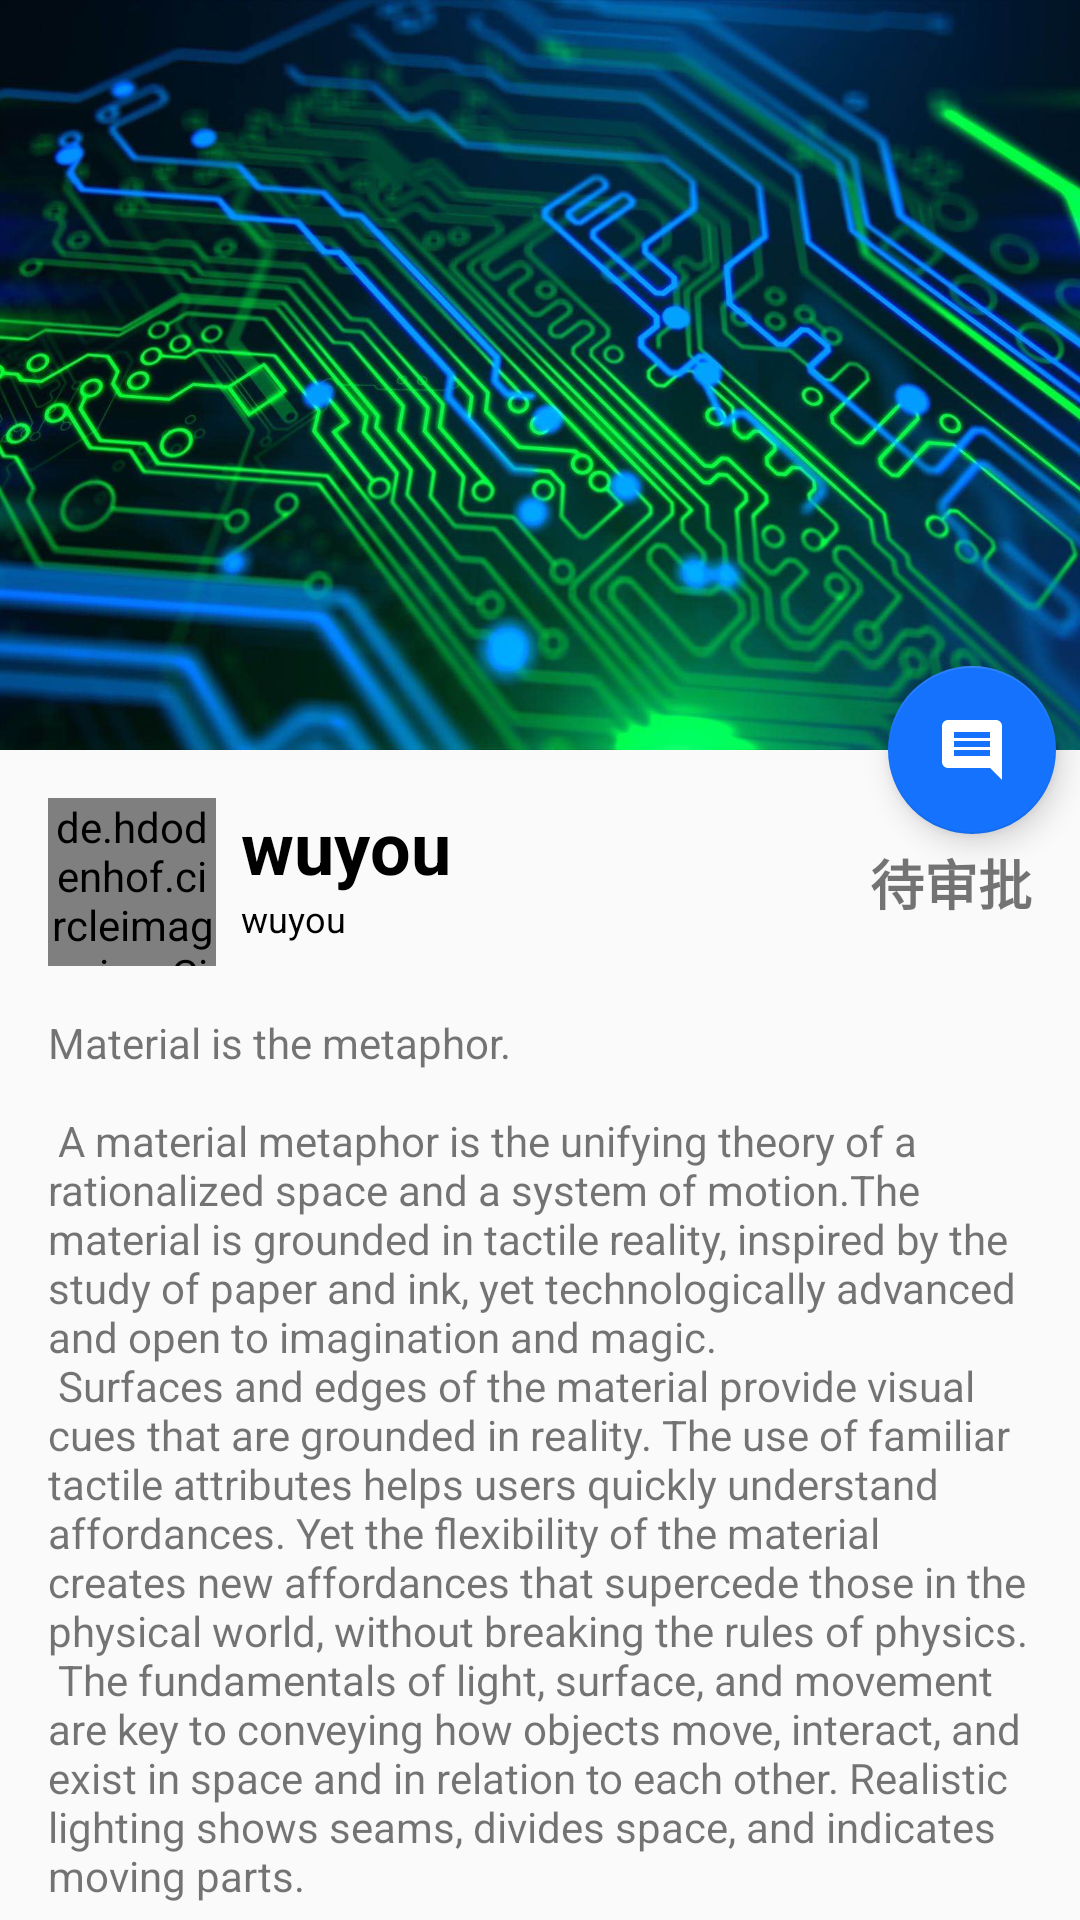

Where to tap for icons on this 1080*1920 app screen, as (x,y):
comment: (972,750)
